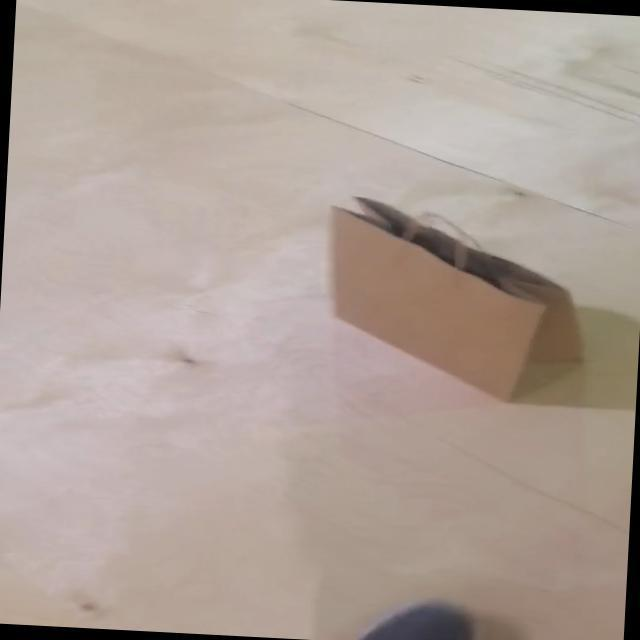Kardus: (326, 193, 584, 402)
